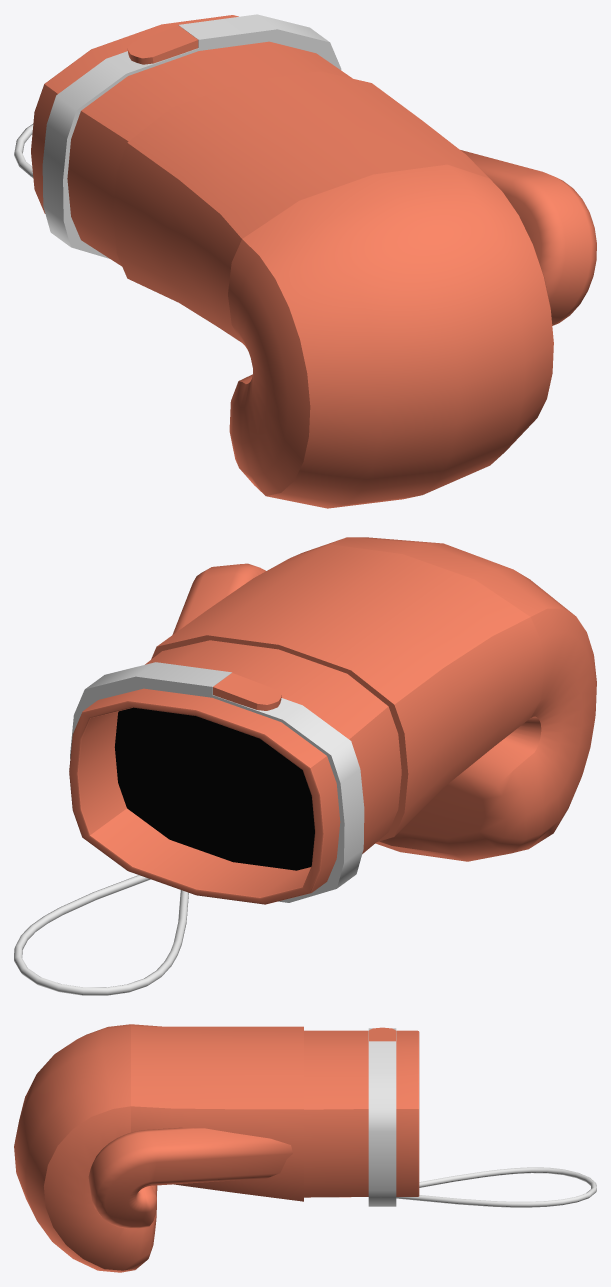
Rendered from BoxingGlove.fbx.
The picture shows the model from 3 angles, top to bottom: view 1: azimuth 30°, elevation 25°; view 2: azimuth 150°, elevation 25°; view 3: azimuth 270°, elevation 25°; orthographic projection. The views are drawn at different scales.
Parts seen in each view (by area): view 1: polySurface6; view 2: polySurface6; view 3: polySurface6.
Part boxes in pixels (left/top/right/bottom): polySurface6: left=14, top=14, right=596, bottom=508; polySurface6: left=14, top=537, right=596, bottom=995; polySurface6: left=14, top=1024, right=596, bottom=1272.
Bounding box in the file's own units: 0.5875 × 0.5003 × 1.24.
